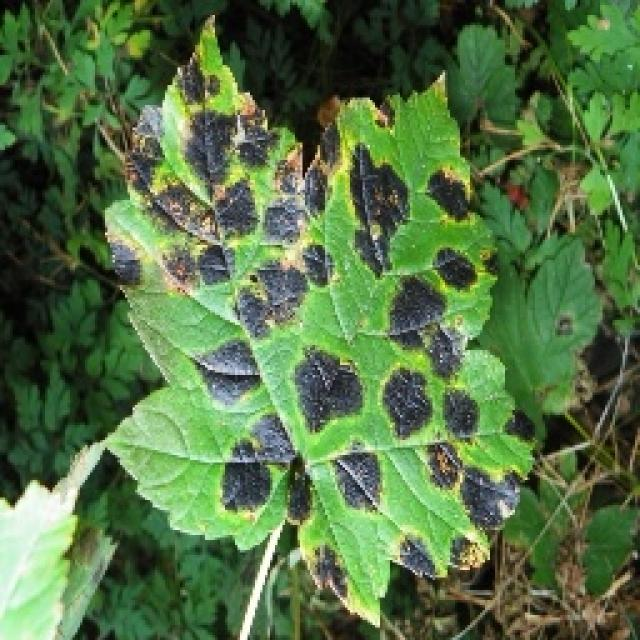Tar_Spot: (100, 12, 540, 620)
